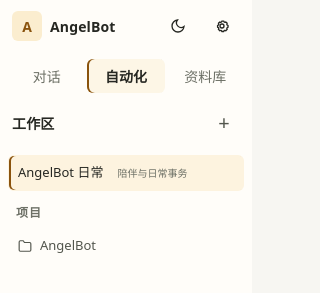
it: Sidebar workspace navigator › keeps the current workspace visible and explains when switching fails
Click the button "AngelBot" at [126, 246], box [8,228,244,264]
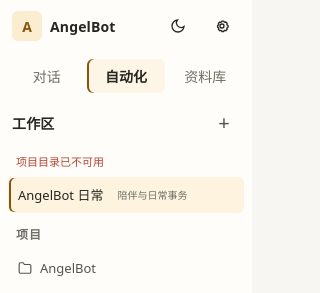
Result: the message reads "项目目录已不可用" at [16,154,104,169]
